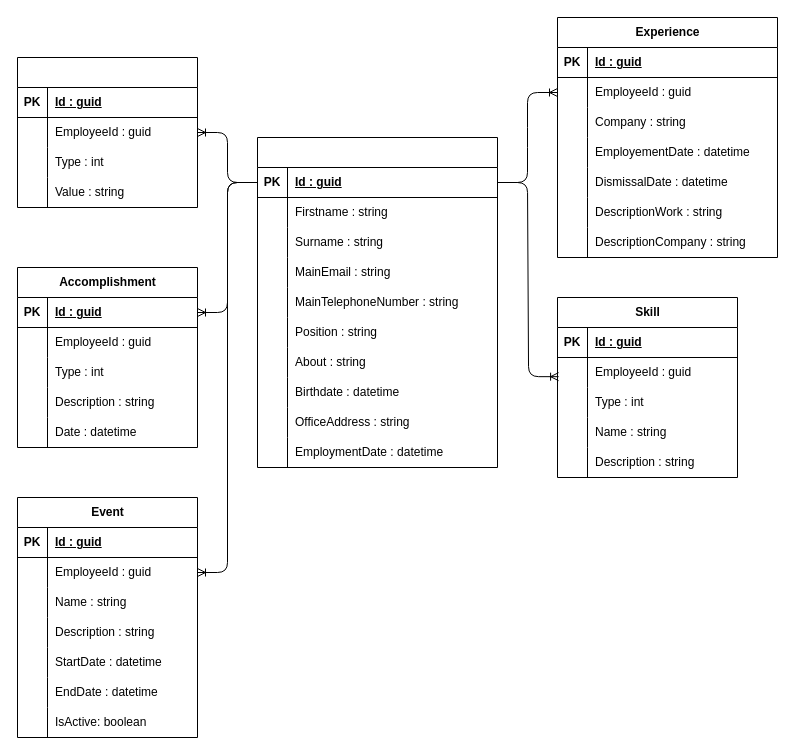
The diagram is 795 pixels wide and 755 high, and some of its shapes have lost their labels. Here are the shapes that lost their labels. From the top down, the box of each, then its label:
(16, 56, 198, 208): Communication
(256, 136, 498, 468): Employee
